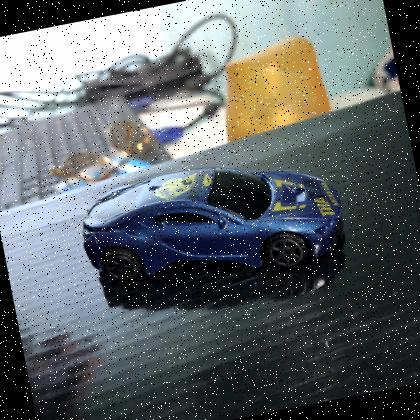Car: (82, 167, 345, 284)
